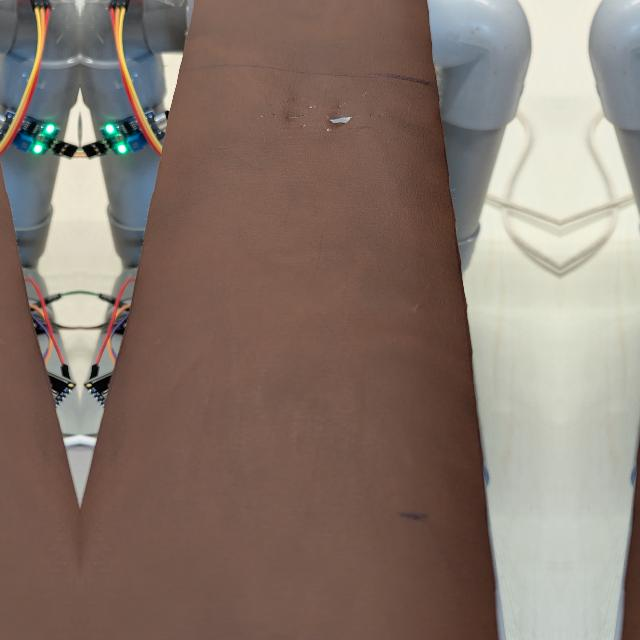belt_crack: (261, 83, 404, 147)
